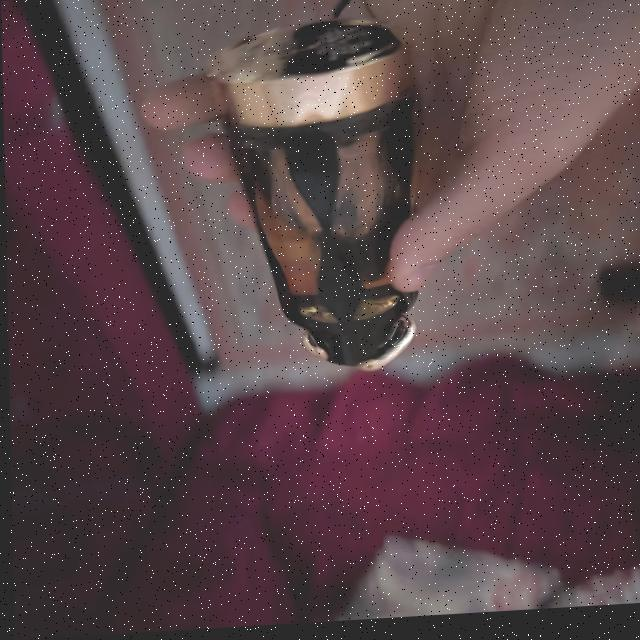Teriaq-Intense: (202, 17, 426, 384)
